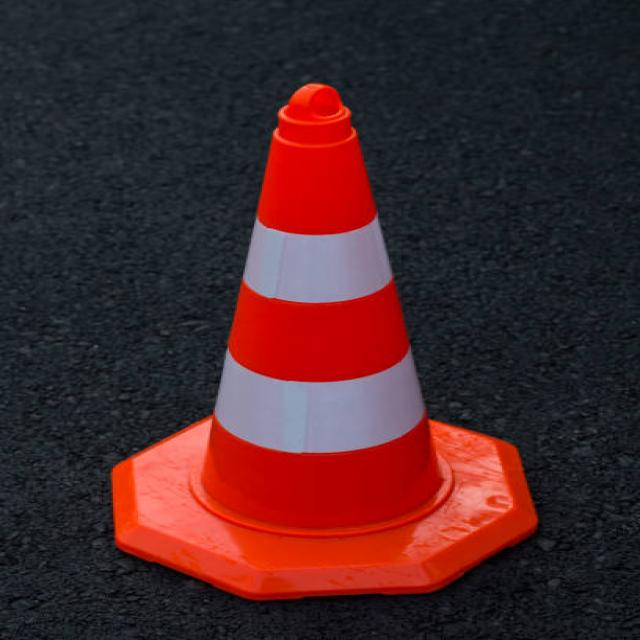Traffic Cone: (26, 15, 614, 626)
